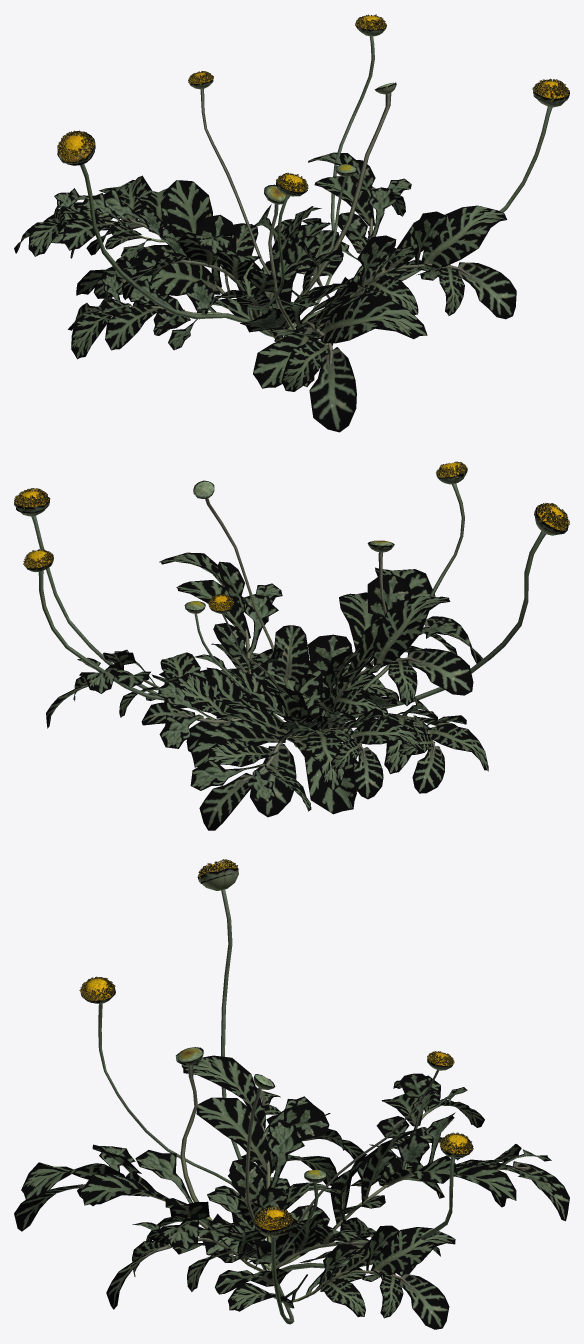
Rendered from stinkkruid.glb.
The picture shows the model from 3 angles, top to bottom: view 1: azimuth 30°, elevation 25°; view 2: azimuth 150°, elevation 25°; view 3: azimuth 270°, elevation 25°; orthographic projection. The views are drawn at different scales.
Visible parts, largest first — view 1: flower_stinkkruid_a_LOD0; view 2: flower_stinkkruid_a_LOD0; view 3: flower_stinkkruid_a_LOD0.
Boxes of the visible parts, bbox=[...] form: flower_stinkkruid_a_LOD0: bbox=[14, 14, 569, 432]; flower_stinkkruid_a_LOD0: bbox=[14, 461, 569, 830]; flower_stinkkruid_a_LOD0: bbox=[14, 859, 569, 1329].
Bounding box in the file's own units: 3.34 × 1.68 × 2.87.
Materials: 1 (1 with a texture image).
